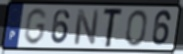6: (151, 9, 172, 49), (50, 9, 70, 46)
G: (22, 7, 48, 47)
N: (72, 8, 100, 47)
O: (124, 9, 148, 48)
T: (102, 7, 125, 49)
